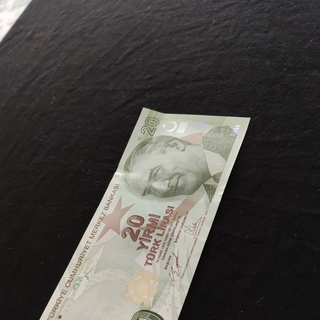20TLFront: (33, 106, 250, 320)
